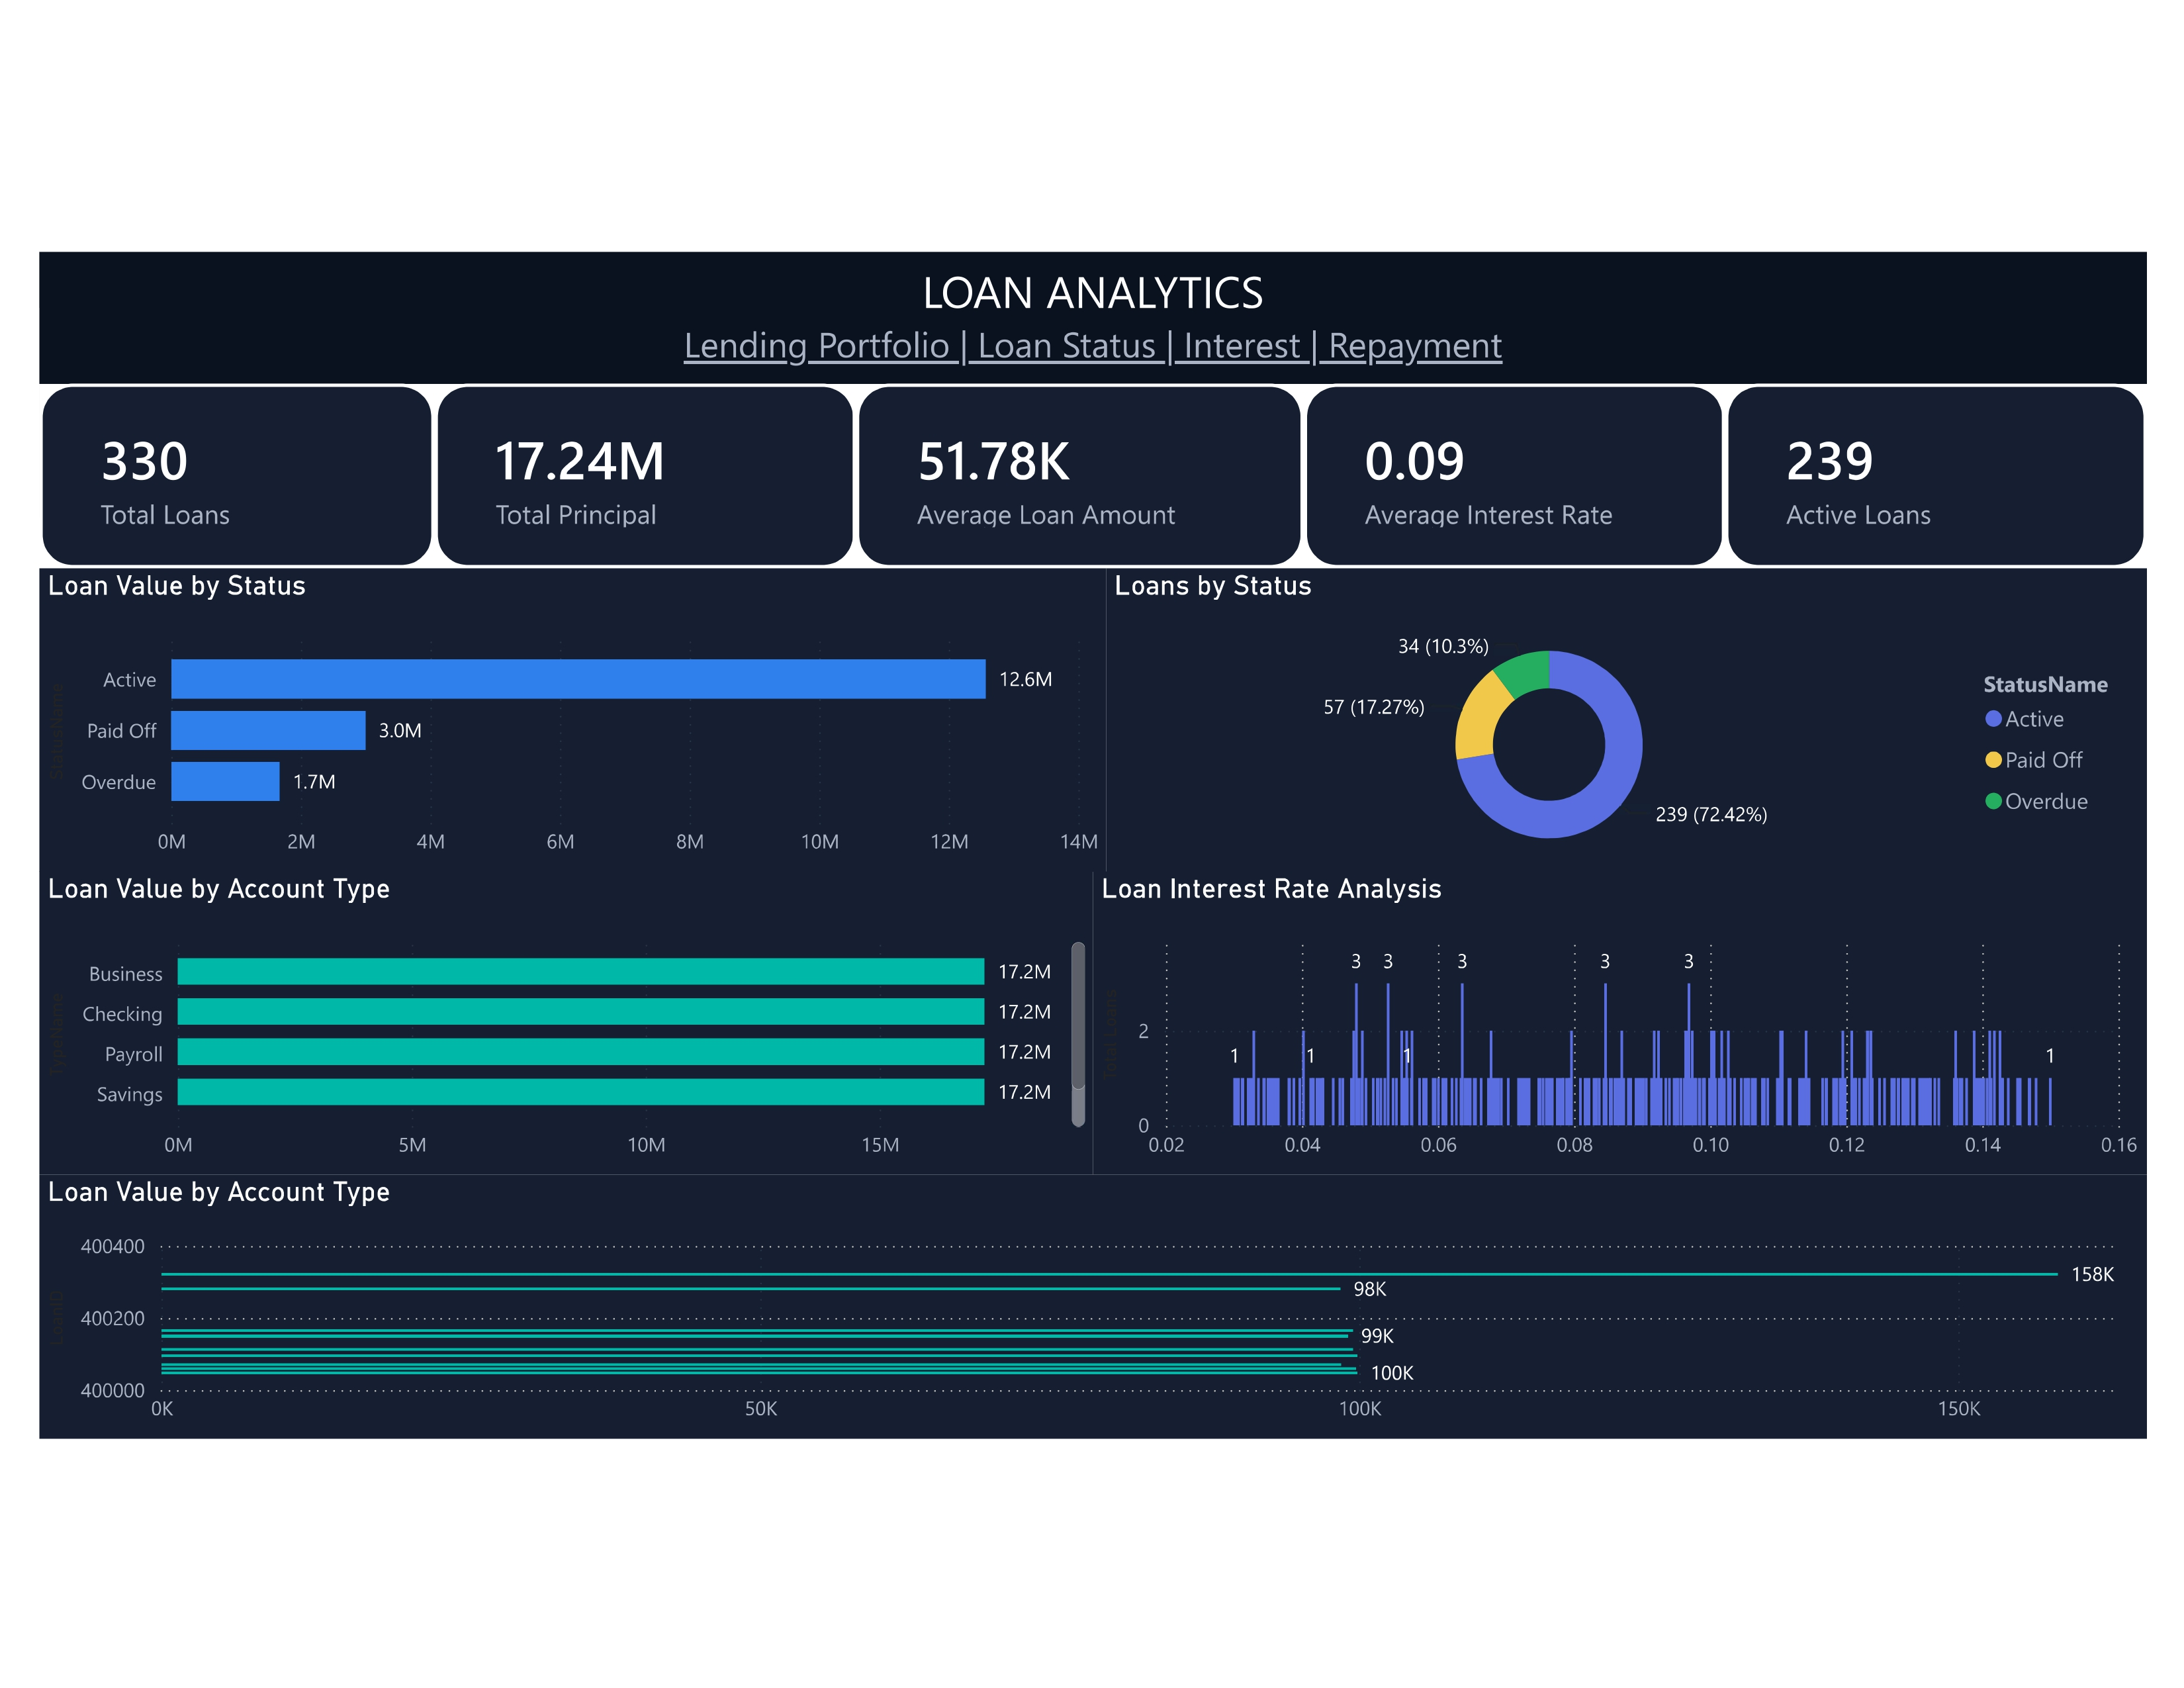

What the dashboard file says about the page in this screenshot:
{"tool":"powerbi","page":{"name":"Loan Analytics","canvas":[1280,720],"ordinal":4},"visuals":[{"type":"textbox","box":[0,0,1280,80],"z":0},{"type":"cardVisual","fields":{"Data":["Measuers.Total Loans"]},"box":[0,80,240,112],"z":1000},{"type":"cardVisual","fields":{"Data":["Measuers.Active Loans"]},"box":[1024,80,256,112],"z":2000},{"type":"cardVisual","fields":{"Data":["Measuers.Total Principal"]},"box":[240,80,256,112],"z":3000},{"type":"cardVisual","fields":{"Data":["Measuers.Average Loan Amount"]},"box":[496,80,272,112],"z":4000},{"type":"cardVisual","fields":{"Data":["Measuers.Average Interest Rate"]},"box":[768,80,256,112],"z":5000},{"type":"clusteredBarChart","title":"Loan Value by Status","fields":{"Y":["Measuers.Total Principal"],"Category":["loan_statuses.StatusName"]},"box":[0,192,648,184],"z":6000},{"type":"donutChart","title":"Loans by Status","fields":{"Category":["loan_statuses.StatusName"],"Y":["Measuers.Total Loans"]},"box":[648,192,632,184],"z":7000},{"type":"clusteredBarChart","title":"Loan Value by Account Type","fields":{"Y":["Measuers.Total Principal"],"Category":["account_types.TypeName"]},"box":[0,376,640,184],"z":8000},{"type":"clusteredColumnChart","title":"Loan Interest Rate Analysis","fields":{"Y":["Measuers.Total Loans"],"Category":["loans.InterestRate"]},"box":[640,376,640,184],"z":9000},{"type":"clusteredBarChart","title":"Loan Value by Account Type","fields":{"Category":["loans.LoanID"],"Y":["Measuers.Total Principal"]},"box":[0,560,1280,160],"z":10000}]}

Visuals, with their boxes on the page's 1280x720 design canvas (x1, y1, x2, y2). These are canvas units, not pixel positions in the 2184x1688 screenshot, which may show the page scaled, cropped or inside an application window:
textbox: {"left": 0, "top": 0, "right": 1280, "bottom": 80}
cardVisual - Measuers.Total Loans: {"left": 0, "top": 80, "right": 240, "bottom": 192}
cardVisual - Measuers.Active Loans: {"left": 1024, "top": 80, "right": 1280, "bottom": 192}
cardVisual - Measuers.Total Principal: {"left": 240, "top": 80, "right": 496, "bottom": 192}
cardVisual - Measuers.Average Loan Amount: {"left": 496, "top": 80, "right": 768, "bottom": 192}
cardVisual - Measuers.Average Interest Rate: {"left": 768, "top": 80, "right": 1024, "bottom": 192}
"Loan Value by Status" clusteredBarChart: {"left": 0, "top": 192, "right": 648, "bottom": 376}
"Loans by Status" donutChart: {"left": 648, "top": 192, "right": 1280, "bottom": 376}
"Loan Value by Account Type" clusteredBarChart: {"left": 0, "top": 376, "right": 640, "bottom": 560}
"Loan Interest Rate Analysis" clusteredColumnChart: {"left": 640, "top": 376, "right": 1280, "bottom": 560}
"Loan Value by Account Type" clusteredBarChart: {"left": 0, "top": 560, "right": 1280, "bottom": 720}
